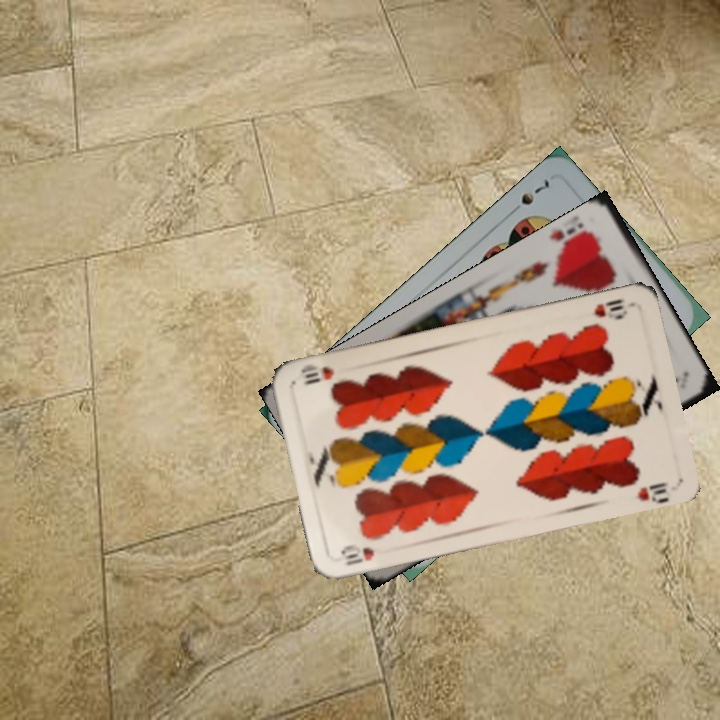H10: (590, 295, 635, 320), (337, 541, 377, 568)
HK: (551, 218, 597, 259)
S7: (505, 175, 552, 218)
